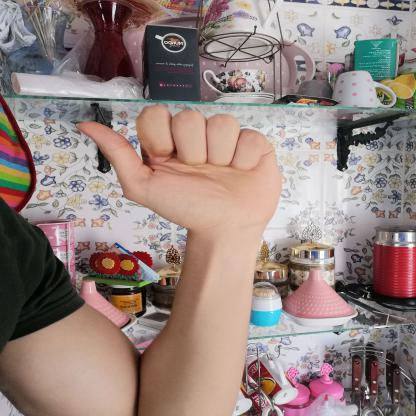DAD: (64, 92, 298, 242)
